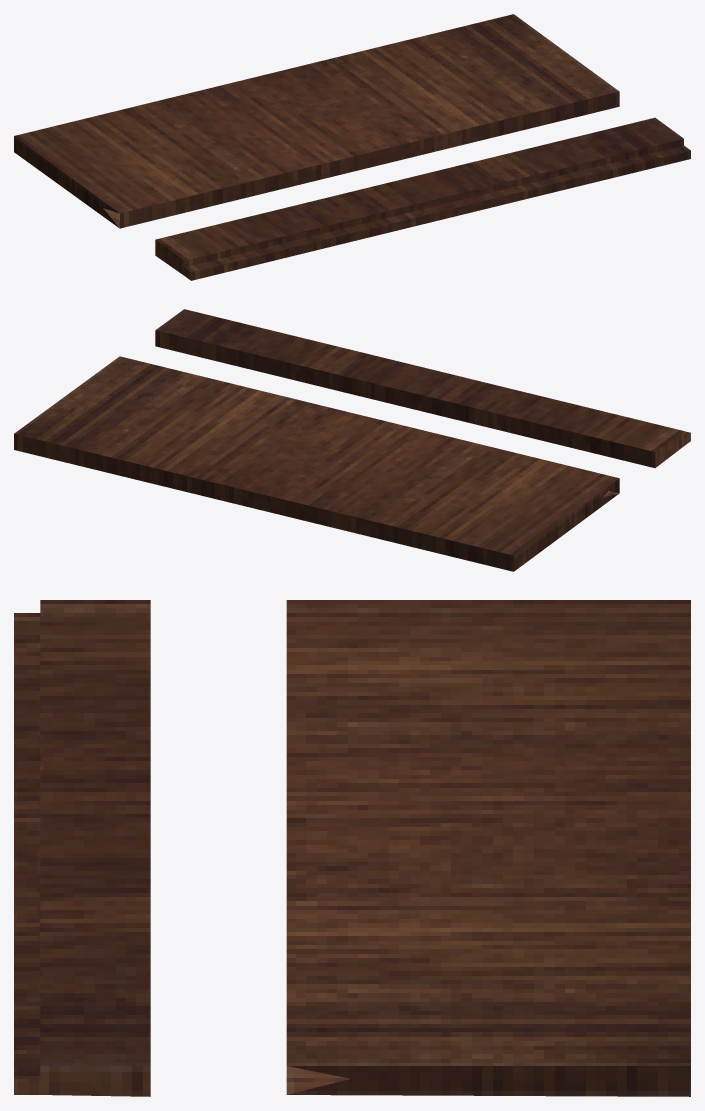
Rendered from SM_Stage_BaseTest.glb.
The picture shows the model from 3 angles, top to bottom: view 1: azimuth 30°, elevation 25°; view 2: azimuth 150°, elevation 25°; view 3: azimuth 270°, elevation 25°; orthographic projection. The views are drawn at different scales.
Visible parts, largest first — view 1: SM_Stage_BaseTest; view 2: SM_Stage_BaseTest; view 3: SM_Stage_BaseTest.
Part boxes in pixels (bbox=[...]): SM_Stage_BaseTest: bbox=[14, 14, 690, 280]; SM_Stage_BaseTest: bbox=[14, 309, 690, 571]; SM_Stage_BaseTest: bbox=[14, 600, 690, 1096].
Size of the model in its own units: 29.89 by 0.9233 by 18.36.
1 material, 1 textured.
